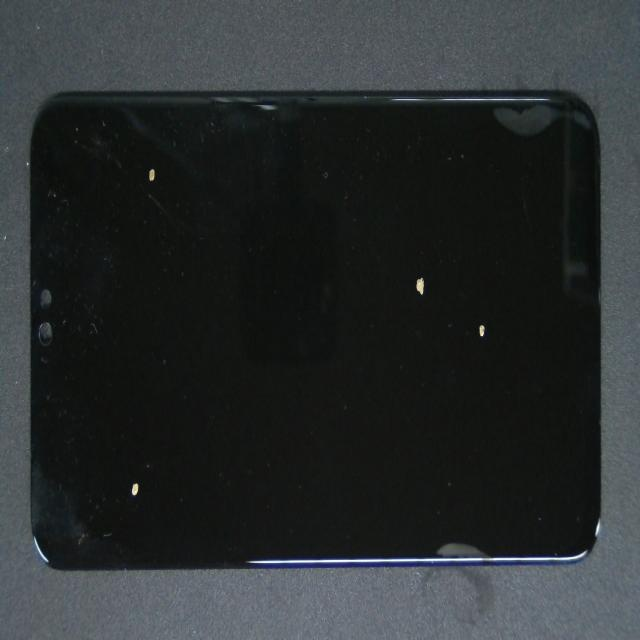stain: (252, 147, 640, 469), (225, 125, 635, 376), (68, 214, 186, 640), (69, 52, 206, 236)
